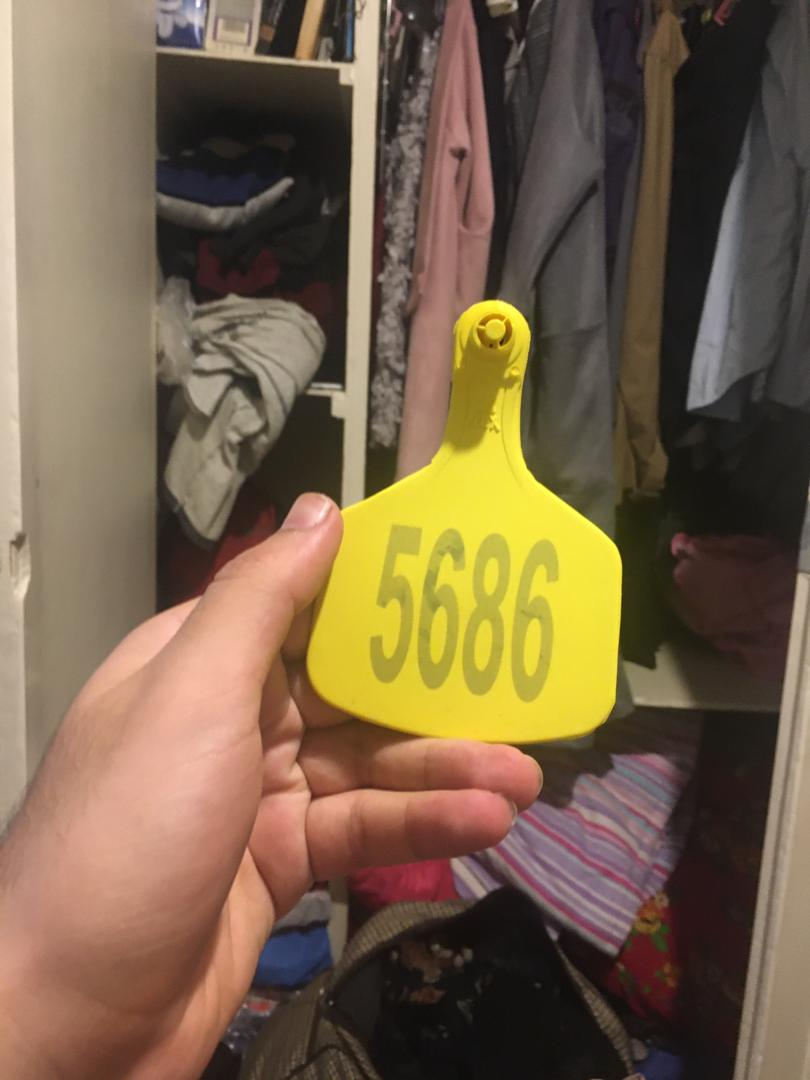digit: (369, 521, 563, 706)
